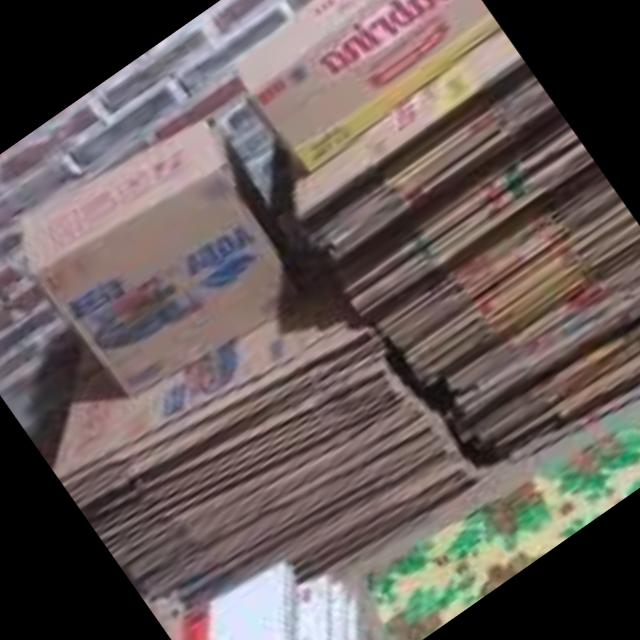Kardus: (296, 40, 640, 481), (60, 284, 477, 640), (0, 88, 323, 415), (209, 0, 511, 185)
